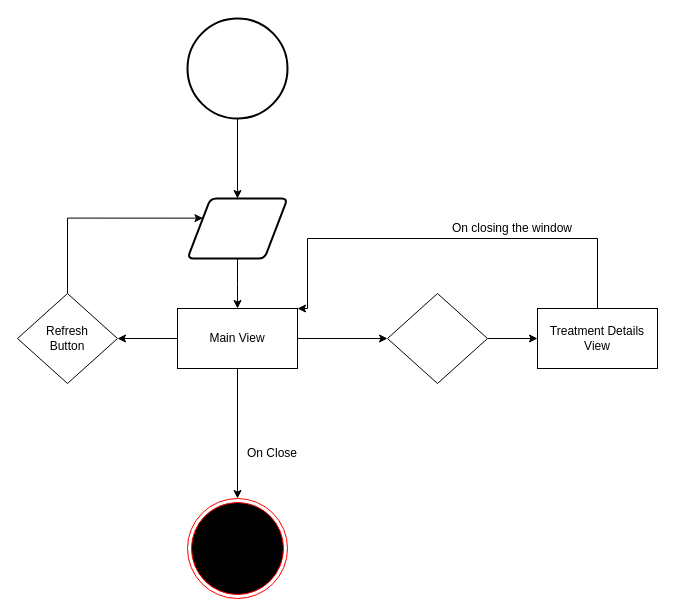
Image size: 675x616. Some labels were removed from this diagram. The shapes that lost their labels are listed below. From the top down, each one's centre as x and y in pixels, then its label:
At (237,228): "DB Read".
At (437,338): "Double click Patient".
